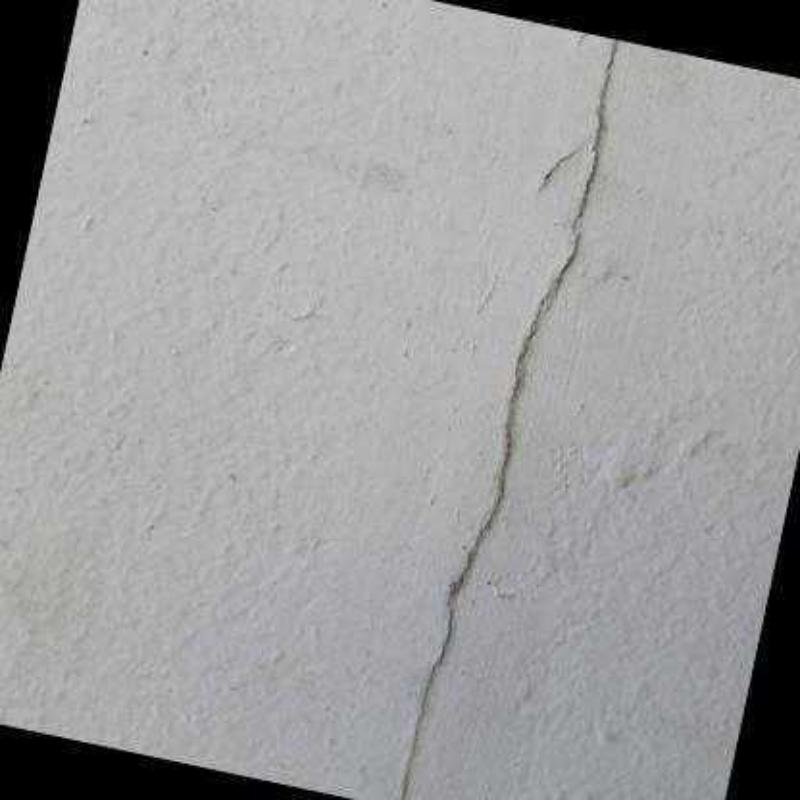crack: (398, 38, 620, 799)
